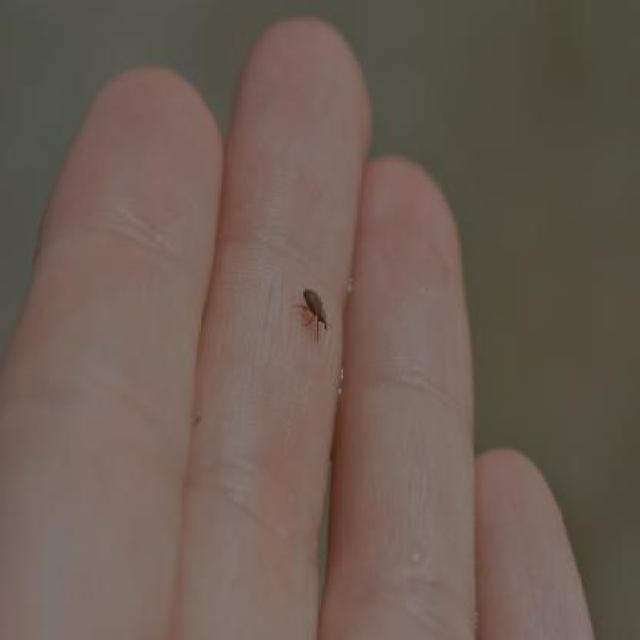rice-bug: (298, 281, 332, 337)
